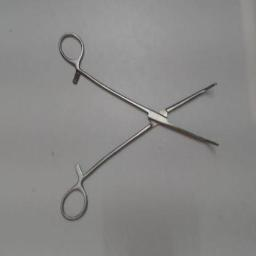Lahey Forceps: (56, 30, 224, 226)
